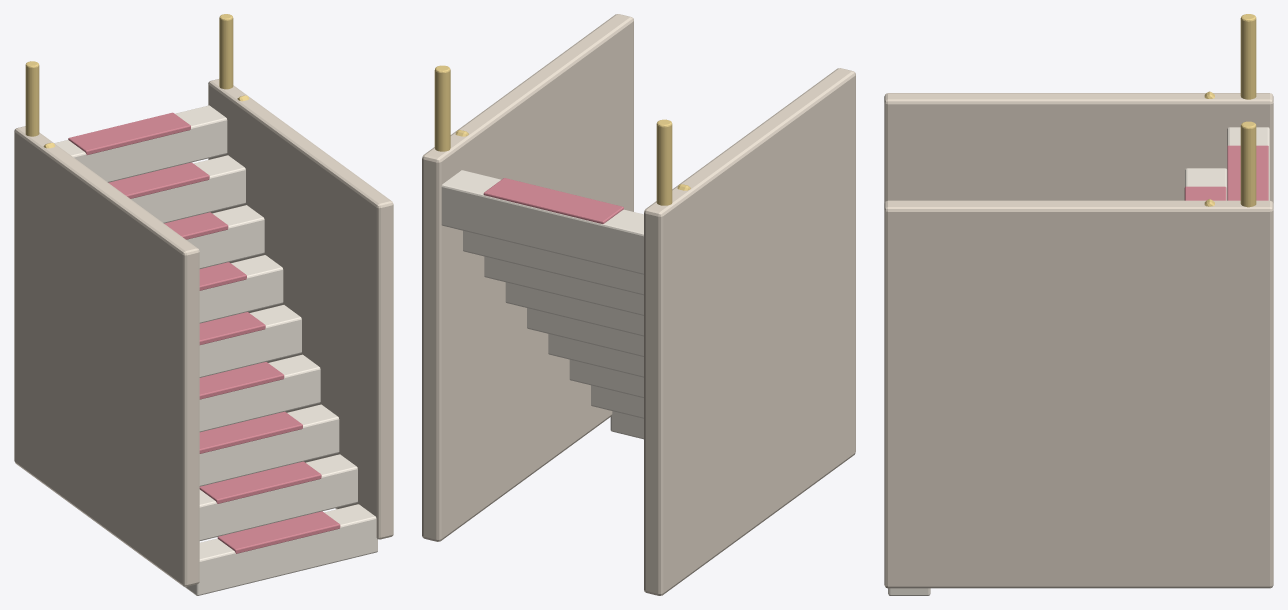
Rendered from opera_split_stair.glb.
The picture shows the model from 3 angles, left to right: view 1: azimuth 30°, elevation 25°; view 2: azimuth 150°, elevation 25°; view 3: azimuth 270°, elevation 25°; orthographic projection. The views are drawn at different scales.
Parts seen in each view (by area): view 1: opera_split_stair.001; view 2: opera_split_stair.001; view 3: opera_split_stair.001.
Boxes of the visible parts, <box> form: opera_split_stair.001: <box>14,14,393,595</box>; opera_split_stair.001: <box>422,14,855,595</box>; opera_split_stair.001: <box>884,14,1273,595</box>.
Bounding box in the file's own units: 8.8 × 16.72 × 12.39.
